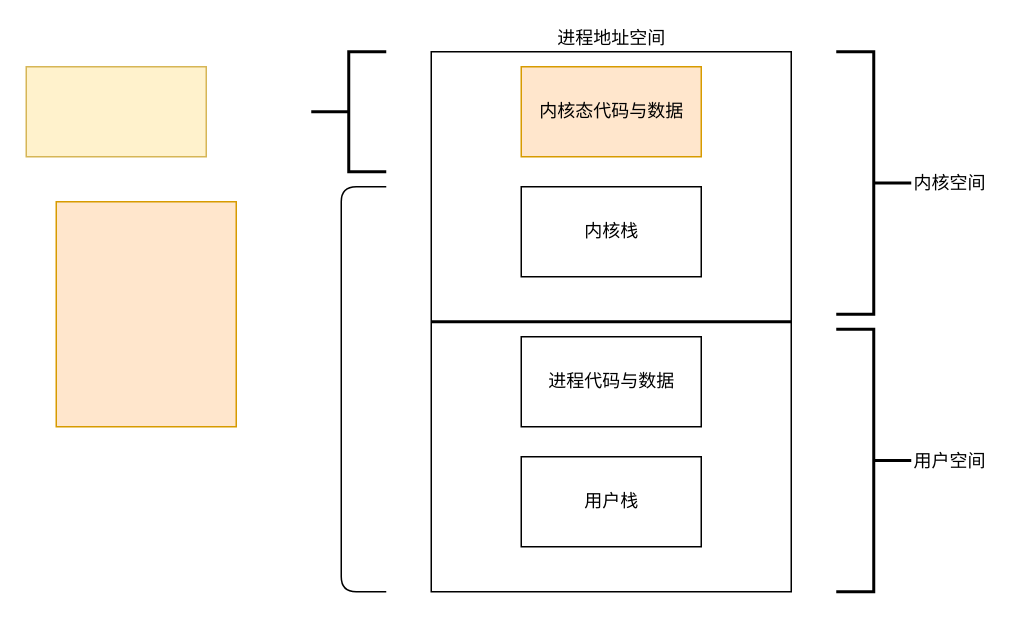
The diagram is 1013 pixels wide and 618 high, and some of its shapes have lost their labels. Here are the shapes that lost their labels. From the top down, the box of each, then its label:
(25, 65, 206, 157): 内核代码供所有进程系统调用时执行，所以需要共享
(309, 50, 387, 172): 进程共享
(55, 200, 236, 427): 内核栈需要存什么东西呢？第一，执行内核态代码时的运行数据，第二是存放进程切换时用户态的程序上下文，还保存了PCB信息，这可以加速CPU对进程的访问信息。
(340, 185, 386, 592): 进程私有
